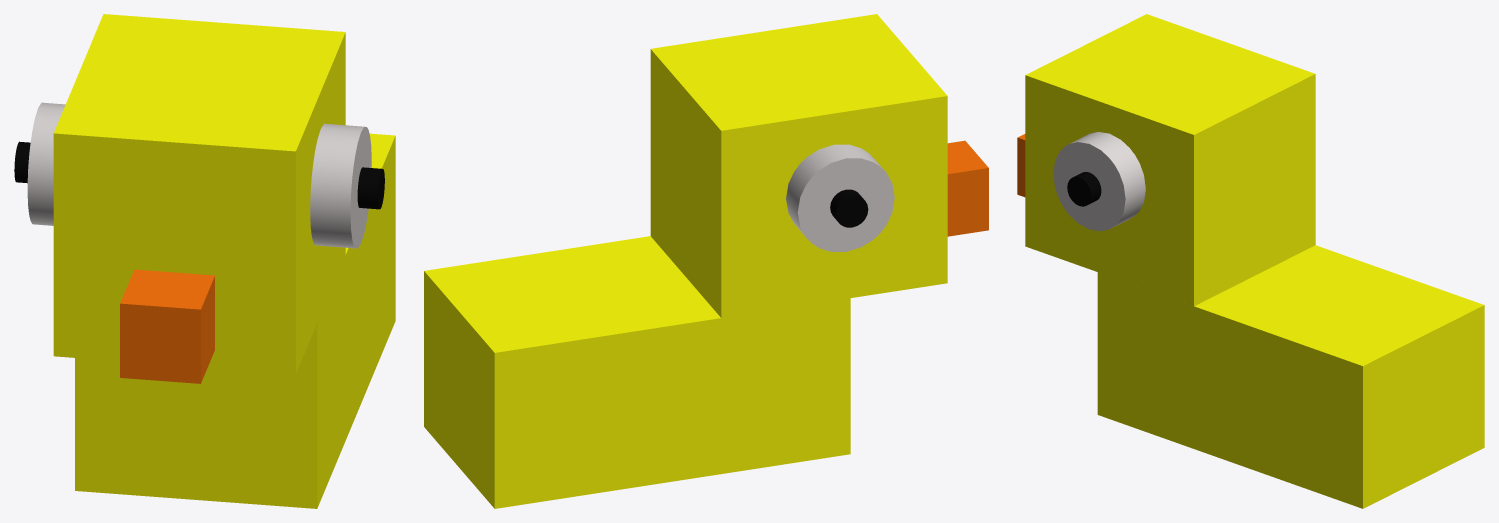
Rendered from pato.obj.
The picture shows the model from 3 angles, left to right: view 1: azimuth 30°, elevation 25°; view 2: azimuth 150°, elevation 25°; view 3: azimuth 270°, elevation 25°; orthographic projection. The views are drawn at different scales.
Parts seen in each view (by area): view 1: Part5, Part2, Part6, Part3, Part4, Part1; view 2: Part2, Part5, Part3, Part6, Part1; view 3: Part2, Part5, Part3, Part4, Part6.
Part boxes in pixels (x1=…): Part5: x1=53, y1=14, x2=345, y2=374; Part2: x1=75, y1=133, x2=395, y2=508; Part6: x1=120, y1=269, x2=214, y2=383; Part3: x1=27, y1=102, x2=371, y2=248; Part4: x1=357, y1=167, x2=384, y2=209; Part1: x1=14, y1=141, x2=30, y2=183; Part2: x1=424, y1=236, x2=850, y2=508; Part5: x1=650, y1=14, x2=947, y2=317; Part3: x1=786, y1=144, x2=894, y2=251; Part6: x1=947, y1=140, x2=988, y2=236; Part1: x1=830, y1=189, x2=868, y2=227; Part2: x1=1097, y1=245, x2=1484, y2=508; Part5: x1=1025, y1=14, x2=1315, y2=306; Part3: x1=1053, y1=132, x2=1145, y2=231; Part4: x1=1067, y1=172, x2=1101, y2=206; Part6: x1=1017, y1=134, x2=1025, y2=197.
Bounding box in the file's own units: 13.6 × 11 × 14.83.
